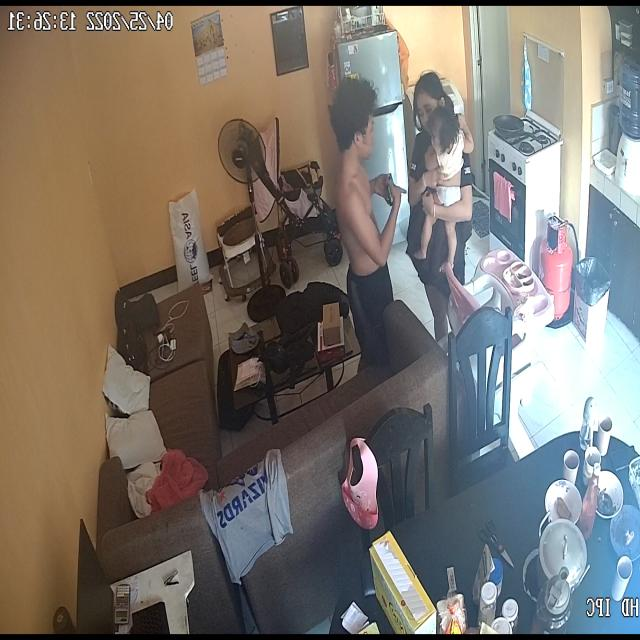adult: (332, 72, 409, 377), (407, 65, 478, 343)
child: (412, 100, 476, 279)
